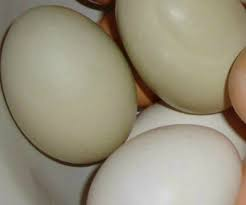eggs: (8, 9, 129, 151), (111, 1, 246, 123), (103, 126, 246, 205)
